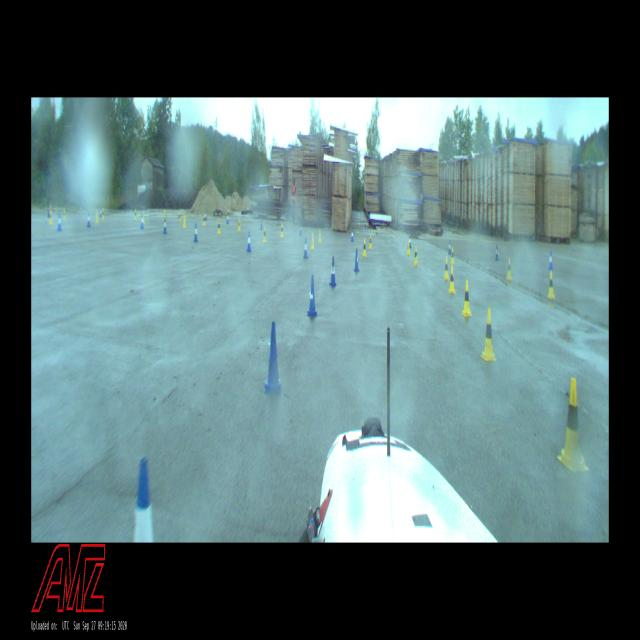blue_cone: (133, 456, 154, 542), (264, 322, 282, 394), (307, 275, 318, 316), (329, 256, 337, 287), (246, 230, 252, 253), (303, 237, 309, 260), (193, 222, 199, 242), (354, 248, 359, 272), (86, 211, 92, 228), (548, 250, 553, 270), (57, 212, 62, 232), (495, 244, 499, 261), (163, 217, 167, 234), (140, 213, 144, 229), (448, 240, 452, 256), (351, 228, 354, 242), (409, 234, 412, 248), (299, 222, 302, 236), (226, 212, 229, 224), (99, 206, 102, 218), (260, 218, 262, 230), (205, 210, 207, 221)
yellow_cone: (557, 377, 589, 472), (481, 307, 496, 361), (461, 280, 472, 317), (448, 264, 456, 294), (547, 271, 555, 299), (444, 256, 449, 280), (507, 258, 512, 280), (362, 238, 367, 258), (406, 240, 411, 257), (414, 246, 418, 266), (450, 246, 454, 265), (262, 226, 266, 244), (311, 232, 315, 250), (368, 233, 372, 250), (95, 209, 99, 225), (49, 209, 53, 225), (217, 219, 221, 235), (280, 223, 284, 238), (318, 228, 322, 243), (183, 214, 186, 229), (238, 218, 241, 232), (63, 208, 66, 221), (202, 213, 205, 226), (134, 208, 137, 220), (102, 208, 105, 220), (143, 210, 145, 225), (164, 209, 166, 220), (179, 212, 181, 222)
